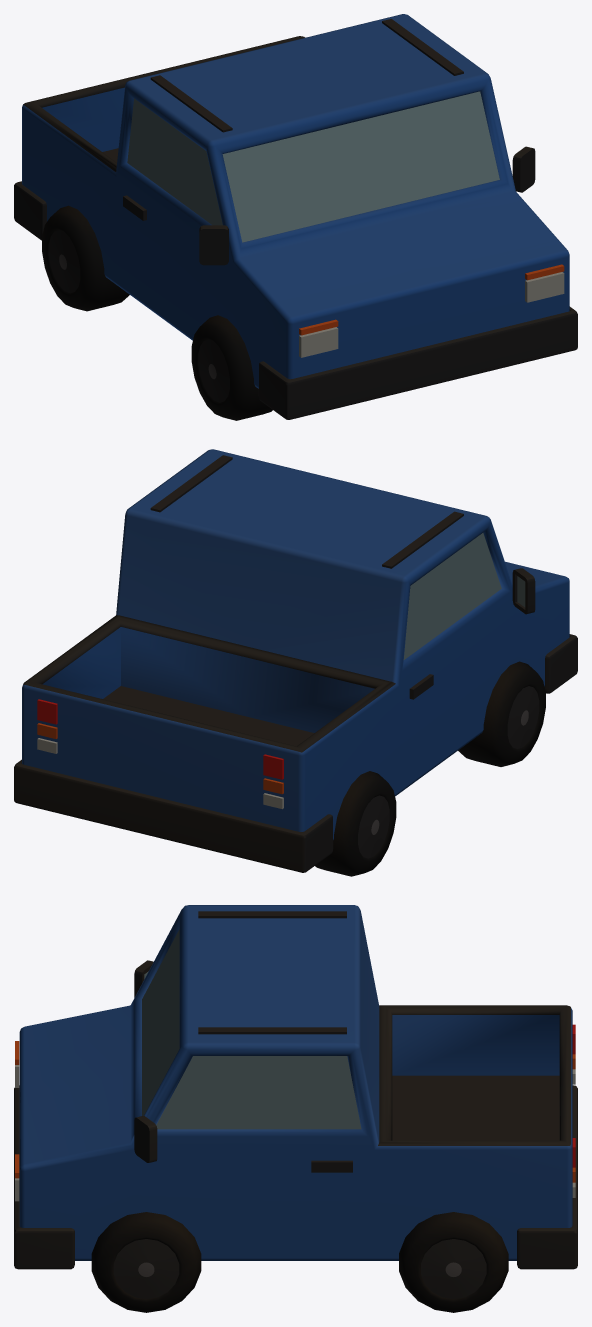
The model's file is car.fbx.
3 views of the same model, one above another, from view 1: azimuth 30°, elevation 25°; view 2: azimuth 150°, elevation 25°; view 3: azimuth 270°, elevation 25° (orthographic). The views are drawn at different scales.
Parts seen in each view (by area): view 1: factory_car_a01; view 2: factory_car_a01; view 3: factory_car_a01.
Part boxes in pixels (x1,y1,x2,y2): factory_car_a01: [14, 14, 577, 420]; factory_car_a01: [14, 449, 577, 876]; factory_car_a01: [14, 905, 577, 1312].
Size of the model in its own units: 2.15 by 1.61 by 3.04.
